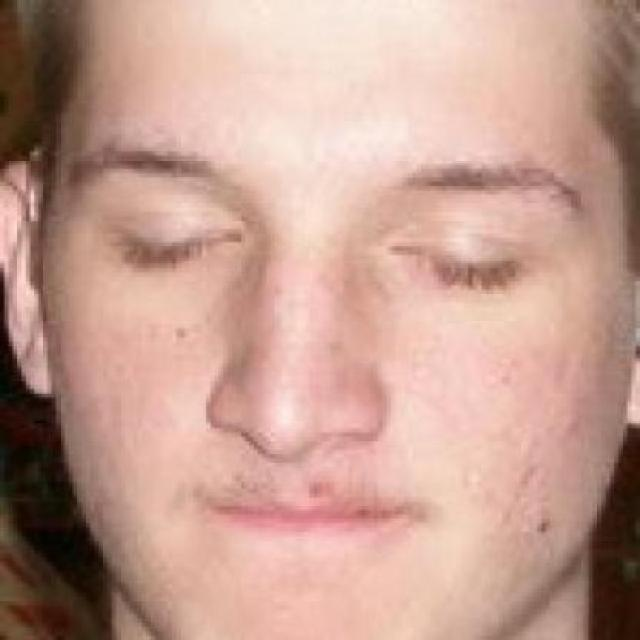drowsy: (402, 230, 526, 301), (120, 217, 242, 269)
